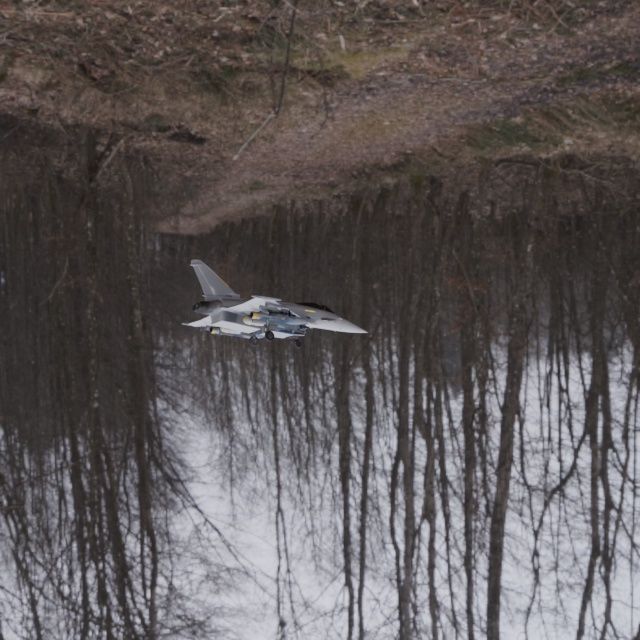eurofighter_typhoon_3d: (156, 240, 412, 366)
